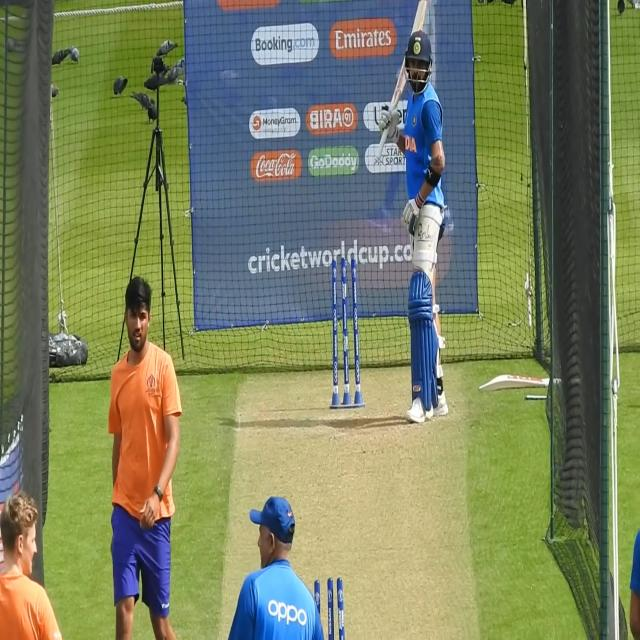stump: (330, 256, 362, 414)
